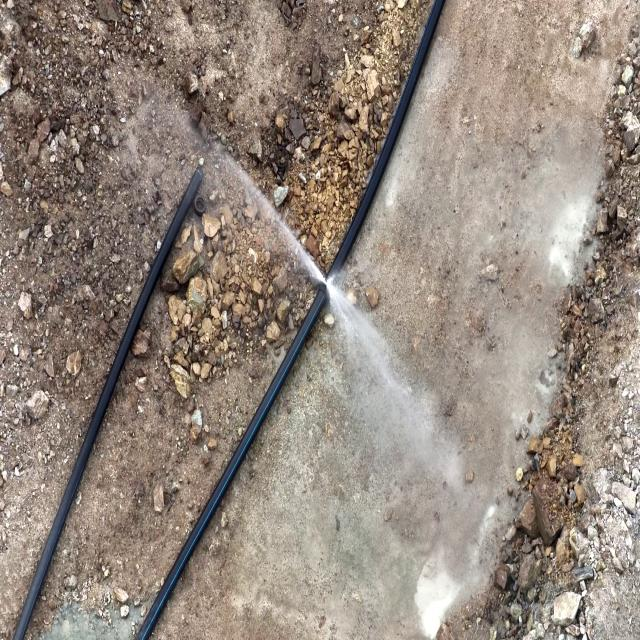leak: (220, 153, 383, 348)
